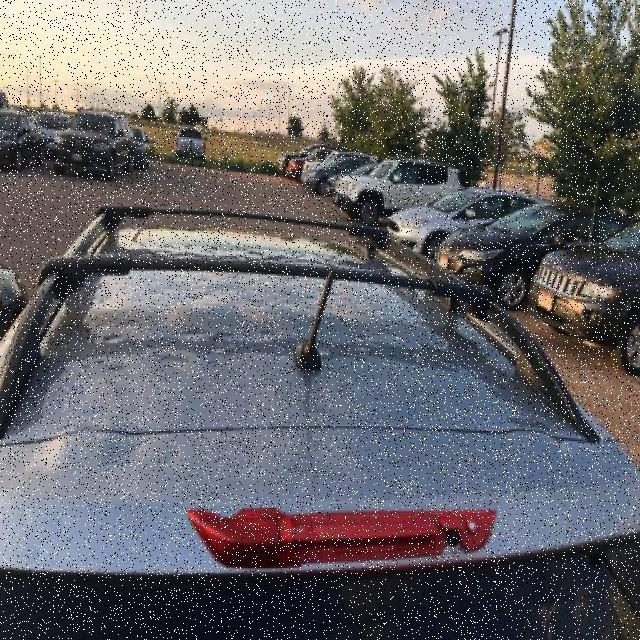roof-dent: (80, 236, 422, 564)
